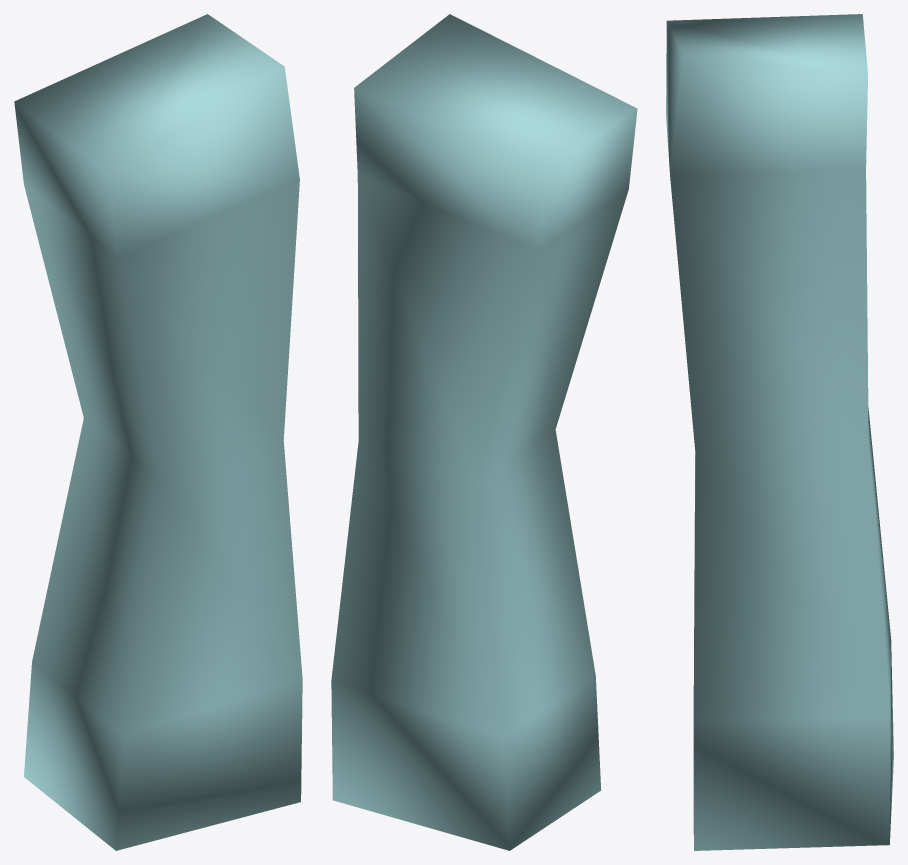
The model's file is Skelly_f_index.01.R.fbx.
The picture shows the model from 3 angles, left to right: view 1: azimuth 30°, elevation 25°; view 2: azimuth 150°, elevation 25°; view 3: azimuth 270°, elevation 25°; orthographic projection. The views are drawn at different scales.
Visible parts, largest first — view 1: Skelly_f_index.01.R; view 2: Skelly_f_index.01.R; view 3: Skelly_f_index.01.R.
Boxes of the visible parts, x1=… form: Skelly_f_index.01.R: x1=14, y1=14, x2=302, y2=850; Skelly_f_index.01.R: x1=331, y1=14, x2=637, y2=850; Skelly_f_index.01.R: x1=666, y1=14, x2=893, y2=850.
Bounding box in the file's own units: 1.65 × 5.67 × 1.48.
